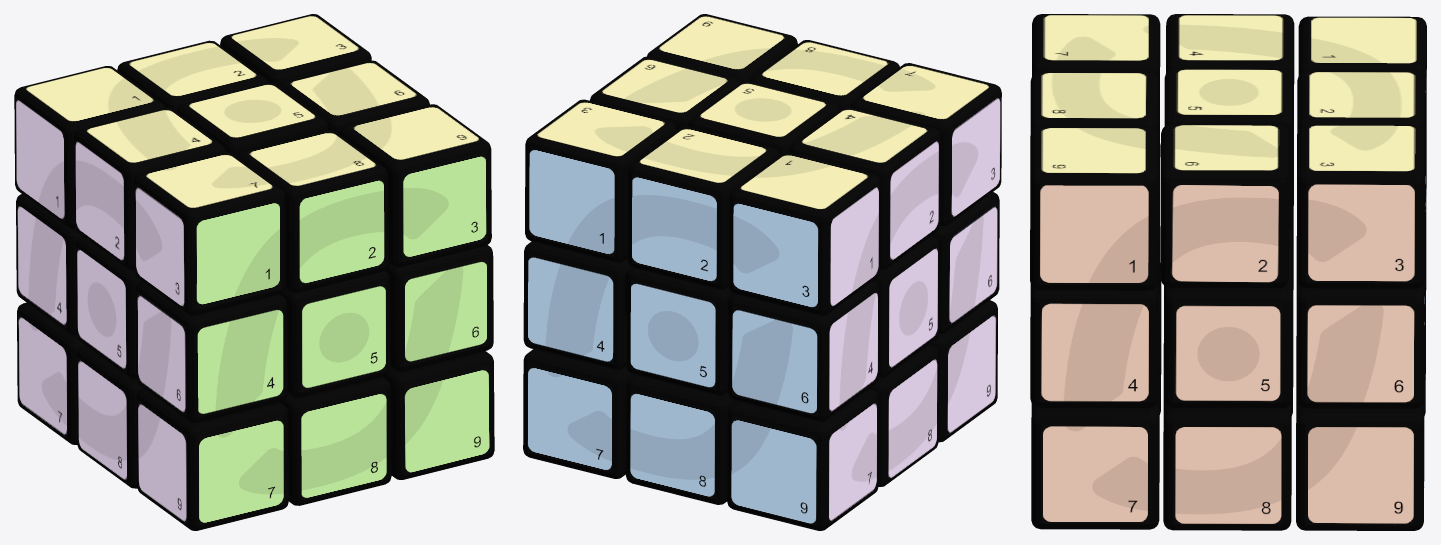
Rendered from Rubix_cube_PASTEL_2.glb.
The picture shows the model from 3 angles, left to right: view 1: azimuth 30°, elevation 25°; view 2: azimuth 150°, elevation 25°; view 3: azimuth 270°, elevation 25°; orthographic projection. The views are drawn at different scales.
Visible parts, largest first — view 1: s3_block_7, s3_block_9, s3_block_5, s3_block_8, s3_block_1, s3_block_4, s3_block_6, s3_block_2, s3_block_3, Top_block_7, Btm_block_7., Mid_block_6 (+34 smaller); view 2: s1_block_1, s1_block_7, s1_block_8, s1_block_9, s1_block_3, s1_block_4, s1_block_2, s1_block_6, s1_block_5, Btm_block_1, Top_block_1, Top_block_3 (+34 smaller); view 3: s2_block_6, s2_block_3, s2_block_8, s2_block_4, s2_block_7, s2_block_9, s2_block_5, s2_block_2, s2_block_1, Top_block_9, Top_block_6, Top_block_3 (+21 smaller).
Part boxes in pixels (box(x1,y1,x2,y2)): s3_block_7: box(198, 415, 284, 525); s3_block_9: box(404, 364, 490, 474); s3_block_5: box(300, 282, 386, 392); s3_block_8: box(301, 390, 387, 500); s3_block_1: box(195, 199, 281, 309); s3_block_4: box(197, 307, 283, 417); s3_block_6: box(403, 256, 489, 366); s3_block_2: box(298, 177, 384, 287); s3_block_3: box(401, 151, 487, 261); Top_block_7: box(133, 152, 285, 315); Btm_block_7.: box(136, 389, 288, 530); Mid_block_6: box(135, 281, 287, 422); s1_block_1: box(529, 147, 614, 257); s1_block_7: box(527, 363, 612, 473); s1_block_8: box(630, 389, 715, 499); s1_block_9: box(731, 415, 816, 525); s1_block_3: box(733, 200, 818, 310); s1_block_4: box(528, 254, 613, 364); s1_block_2: box(632, 174, 717, 284); s1_block_6: box(732, 306, 817, 416); s1_block_5: box(630, 280, 716, 390); Btm_block_1: box(727, 388, 878, 530); Top_block_1: box(729, 152, 880, 315); Top_block_3: box(525, 99, 676, 262); s2_block_6: box(1305, 303, 1415, 403); s2_block_3: box(1306, 183, 1415, 283); s2_block_8: box(1172, 425, 1282, 525); s2_block_4: box(1039, 303, 1149, 402); s2_block_7: box(1040, 424, 1150, 523); s2_block_9: box(1305, 426, 1414, 525); s2_block_5: box(1173, 303, 1282, 402); s2_block_2: box(1170, 183, 1279, 282); s2_block_1: box(1039, 185, 1148, 284); Top_block_9: box(1030, 126, 1158, 290); Top_block_6: box(1160, 124, 1289, 287); Top_block_3: box(1296, 124, 1425, 288).
Size of the model in its own units: 6.17 by 6.2 by 6.19.
Materials: 7 (6 with a texture image).
